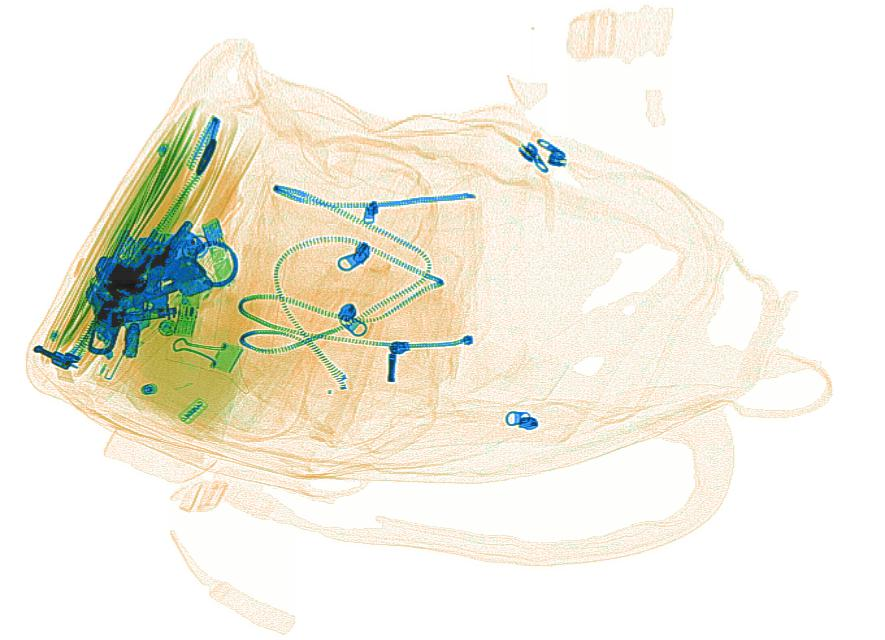USBFlashDisk: (201, 218, 238, 286), (171, 278, 209, 338)
